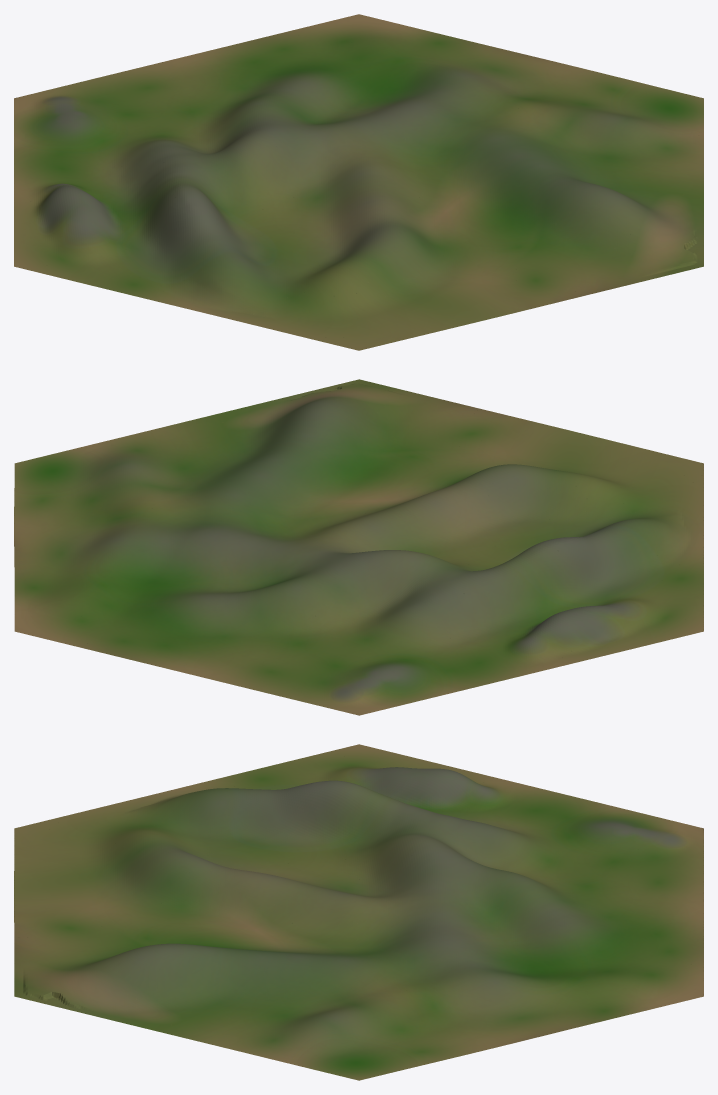
The model's file is Forest3.glb.
3 views of the same model, one above another, from view 1: azimuth 30°, elevation 25°; view 2: azimuth 150°, elevation 25°; view 3: azimuth 270°, elevation 25° (orthographic).
Parts seen in each view (by area): view 1: Circle; view 2: Circle; view 3: Circle.
Part boxes in pixels (<box>): Circle: <box>14,14,703,350</box>; Circle: <box>14,379,703,715</box>; Circle: <box>14,744,703,1080</box>.
Bounding box in the file's own units: 400 × 22.94 × 347.
1 material, 1 textured.
